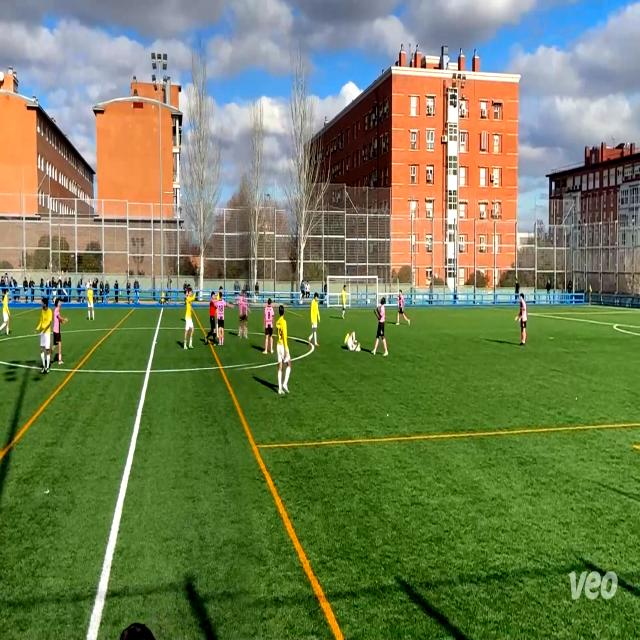corner: (585, 302, 595, 311)
halfcircle_bottom: (138, 354, 158, 390)
halfcircle_top: (154, 322, 164, 334)
midline_top_intersection: (160, 303, 166, 314)
top_arc_area_intersection: (612, 315, 624, 331)
